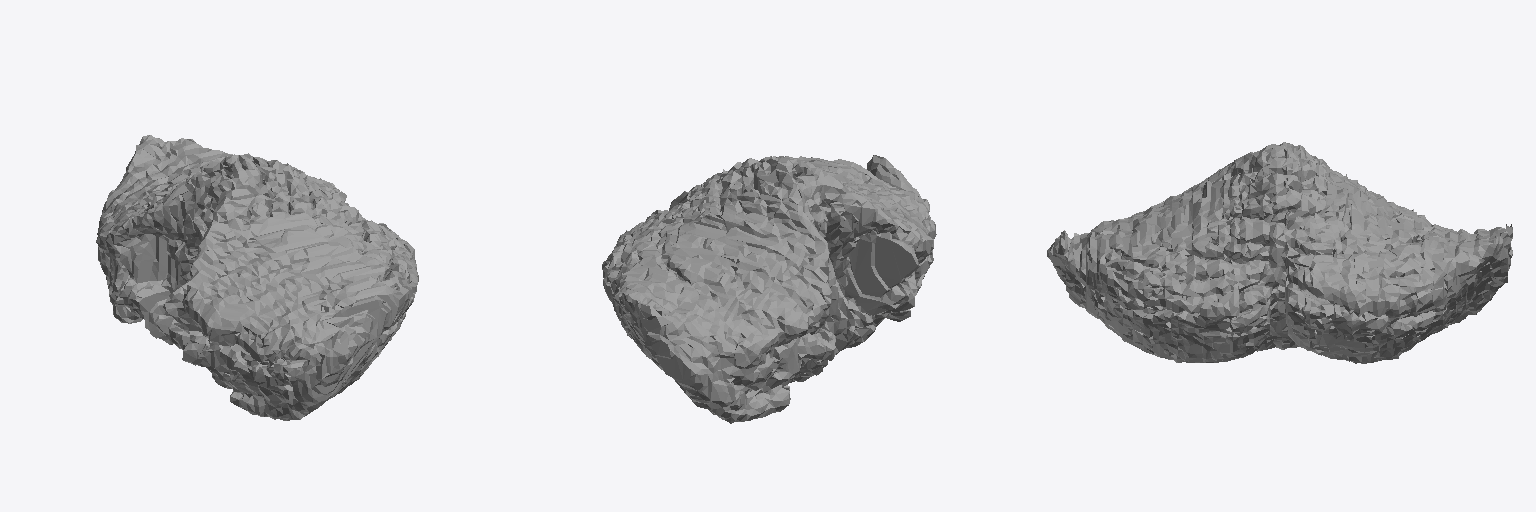
File: cerebellum.obj
3 views of the same model, side by side, from view 1: azimuth 30°, elevation 25°; view 2: azimuth 150°, elevation 25°; view 3: azimuth 270°, elevation 25° (orthographic).
Visible parts, largest first — view 1: Cerebellum_cerebellum; view 2: Cerebellum_cerebellum; view 3: Cerebellum_cerebellum.
Part boxes in pixels (x1,y1,x2,y2): Cerebellum_cerebellum: (96,135,418,420); Cerebellum_cerebellum: (602,155,936,423); Cerebellum_cerebellum: (1047,142,1512,363).
Size of the model in its own units: 96.66 by 79.03 by 161.